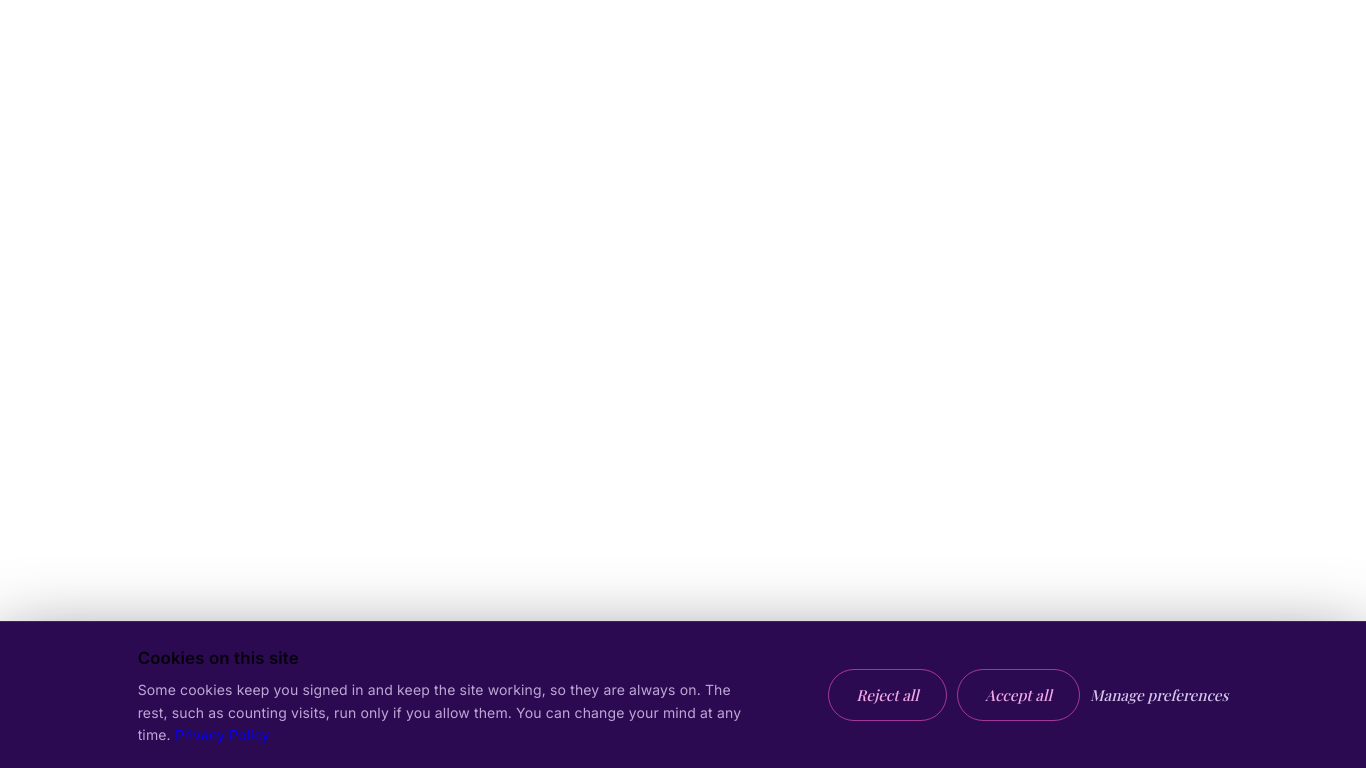
Test: answering it › takes the bar away when Reject all is pressed
Click the button "Reject all": coordinates (888, 695) [828,669,947,721]
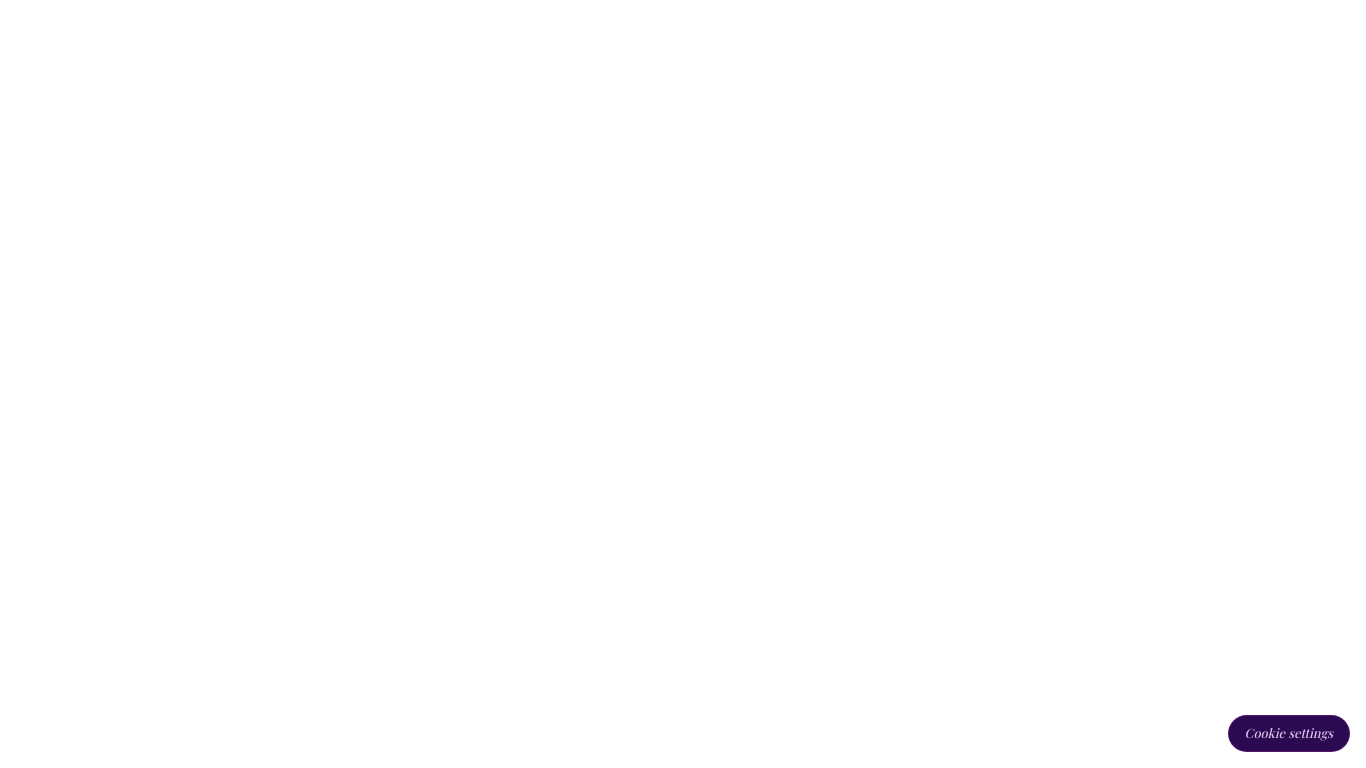
Expected: the heading "Cookies on this site" is gone
